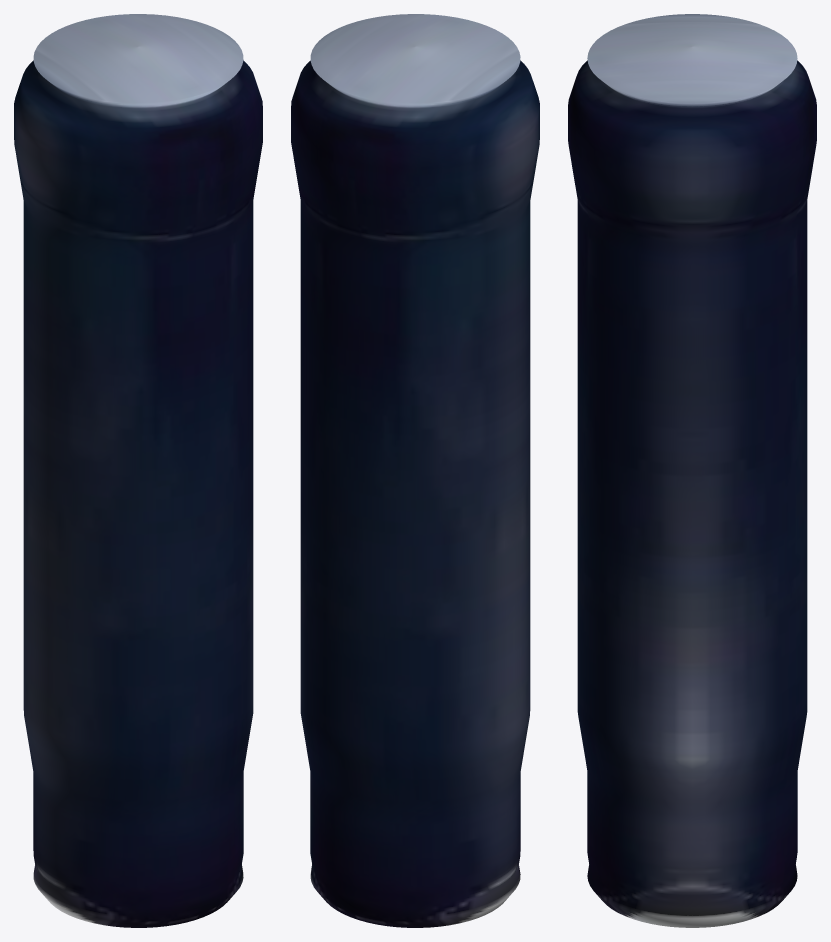
The picture shows the model from 3 angles, left to right: view 1: azimuth 30°, elevation 25°; view 2: azimuth 150°, elevation 25°; view 3: azimuth 270°, elevation 25°; orthographic projection.
Parts seen in each view (by area): view 1: RC-113; view 2: RC-113; view 3: RC-113.
Part boxes in pixels (<box>): RC-113: <box>14,14,262,927</box>; RC-113: <box>291,14,539,927</box>; RC-113: <box>568,14,816,927</box>.
Size of the model in its own units: 6.68 by 24.91 by 6.68.
Materials: 1 (1 with a texture image).
